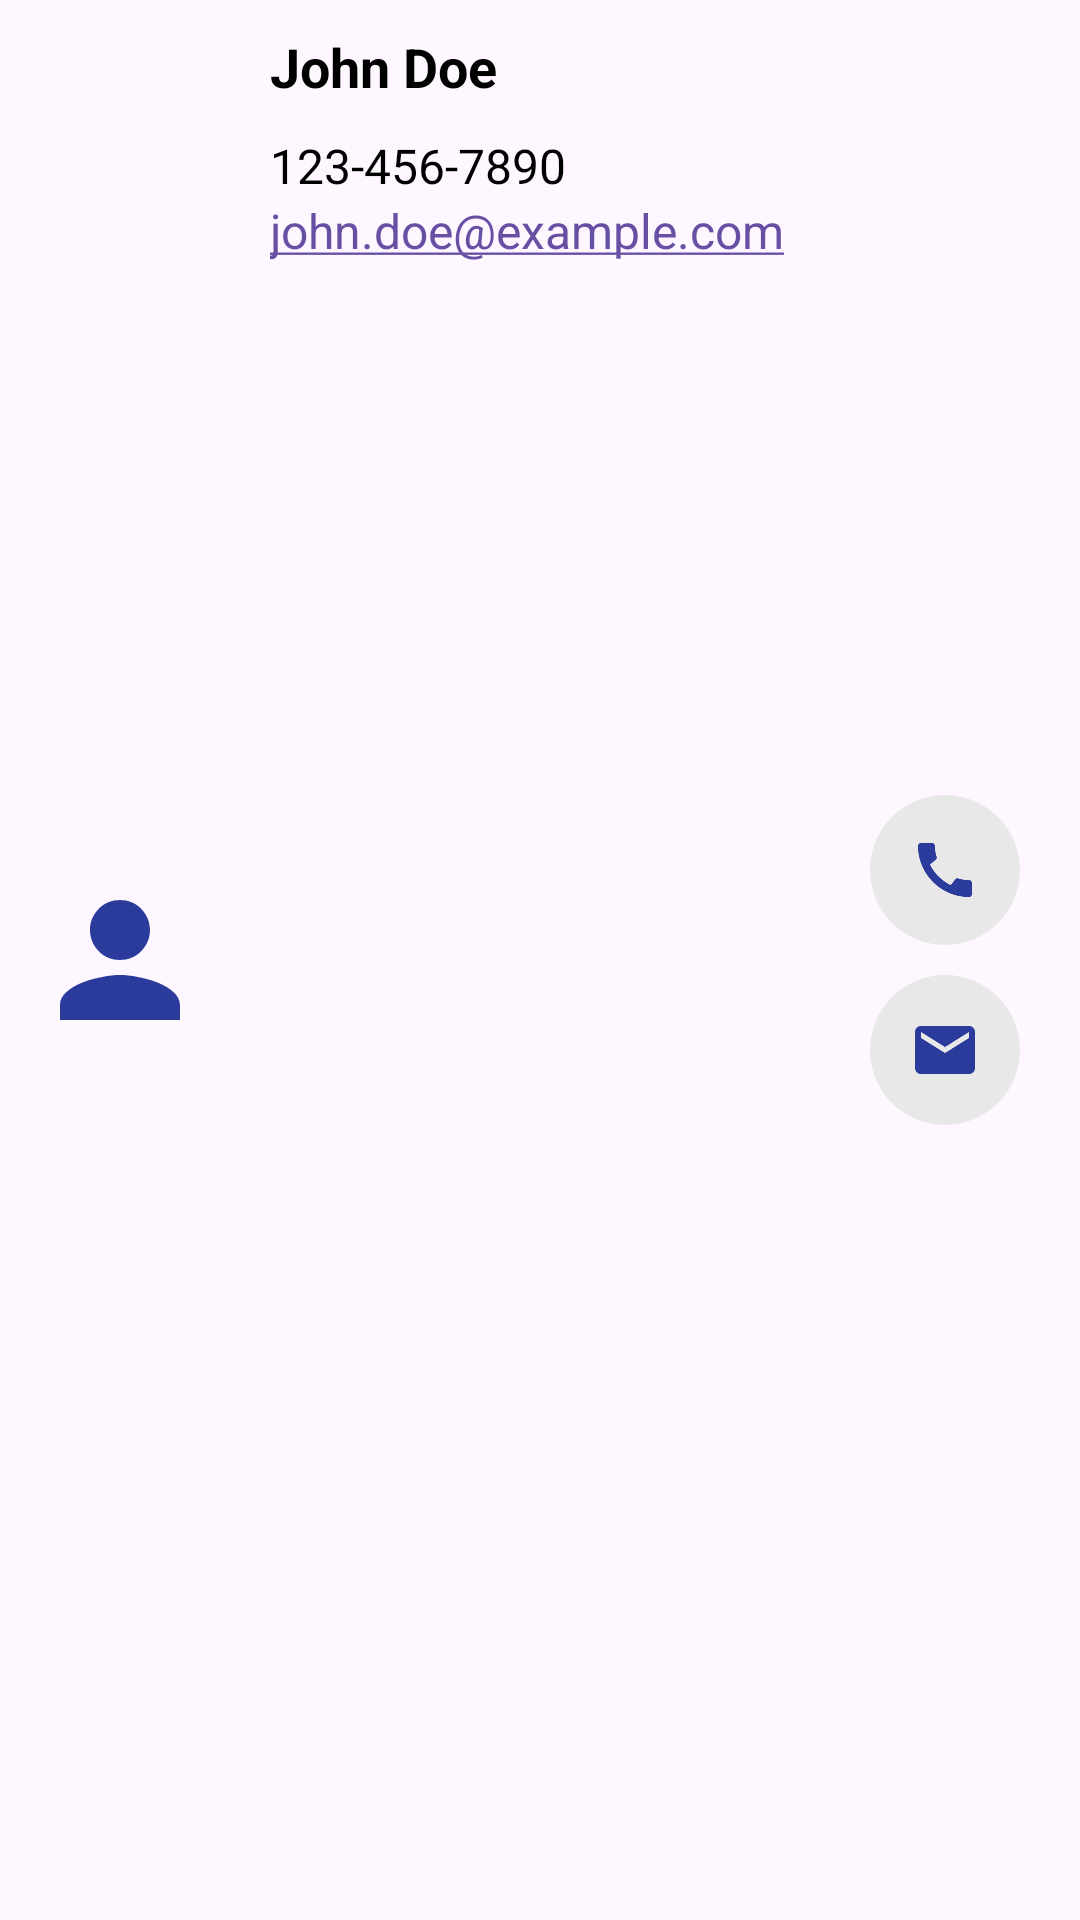

Icons on this 1080 x 1920 Android screen, each with its box as bbox(x1, y1, x2, y2):
call: bbox(870, 795, 1020, 945)
email: bbox(915, 1026, 975, 1074)
person: bbox(60, 900, 180, 1020)
